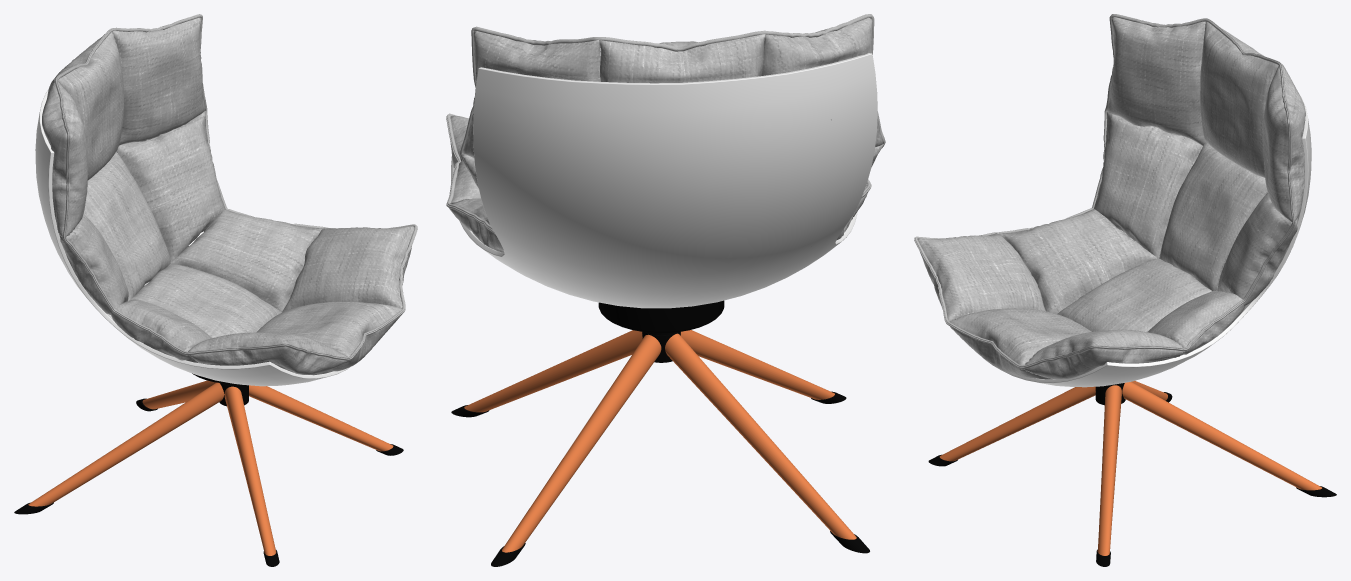
Rendered from MOD_ART_ThreeRooms.fbx_Chair.fbx.
3 views of the same model, side by side, from view 1: azimuth 30°, elevation 25°; view 2: azimuth 150°, elevation 25°; view 3: azimuth 270°, elevation 25° (orthographic). The views are drawn at different scales.
Parts seen in each view (by area): view 1: Cube.022, Cube.021, Chair, Cube.024, Cube.023; view 2: Cube.024, Chair, Cube.022, Cube.023, Cylinder, Cube.021; view 3: Cube.022, Cube.021, Chair, Cube.023, Cube.024.
Boxes of the visible parts, x1,y1,x2,y2 form: Cube.022: (42, 17, 225, 314); Cube.021: (110, 209, 414, 375); Chair: (14, 380, 403, 566); Cube.024: (35, 89, 349, 386); Cube.023: (55, 14, 417, 360); Cube.024: (451, 53, 877, 308); Chair: (451, 330, 869, 566); Cube.022: (462, 17, 883, 188); Cube.023: (446, 14, 885, 234); Cylinder: (598, 300, 724, 362); Cube.021: (449, 115, 867, 252); Cube.022: (1094, 17, 1305, 305); Cube.021: (917, 209, 1245, 382); Chair: (928, 381, 1336, 566); Cube.023: (914, 14, 1295, 368); Cube.024: (1000, 92, 1311, 387).
Size of the model in its own units: 90.98 by 96.44 by 91.26.
Materials: 4 (1 with a texture image).
